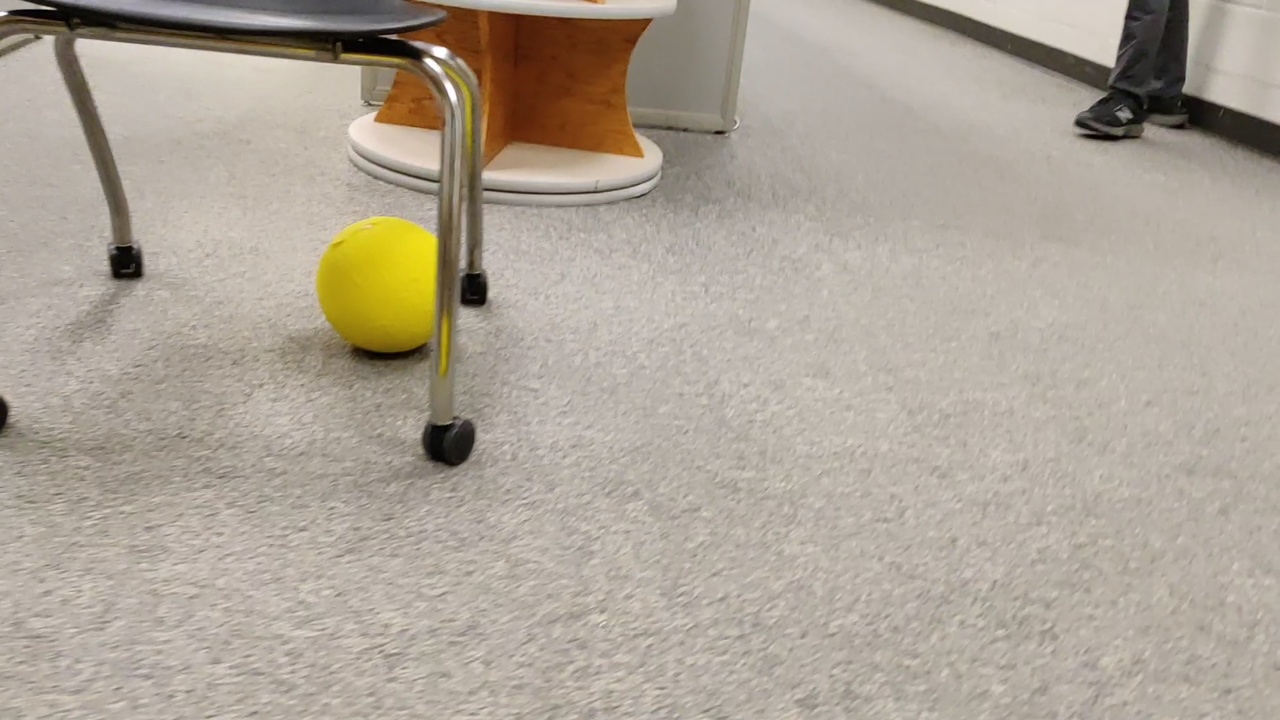Ball: (317, 219, 449, 350)
